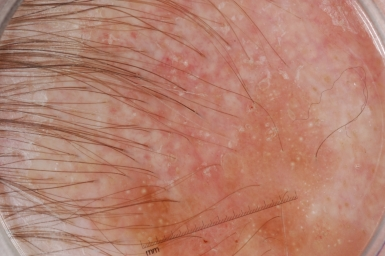seborrheic keratosis: (113, 41, 335, 194)
